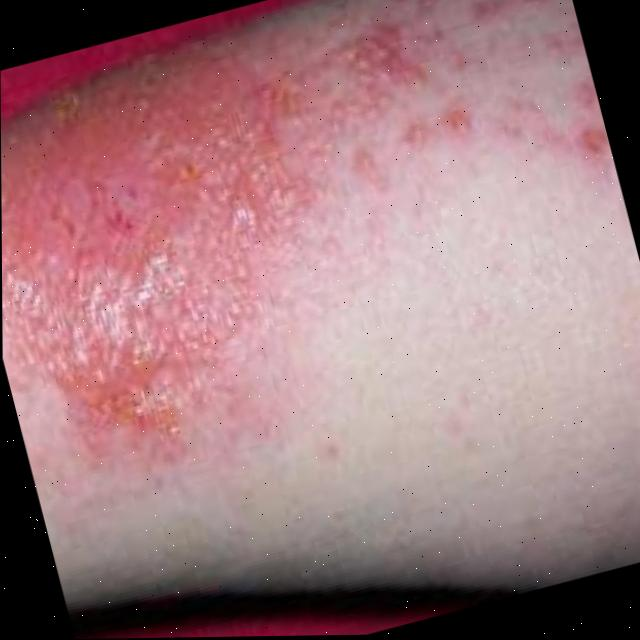Eczema: (0, 0, 622, 433)
